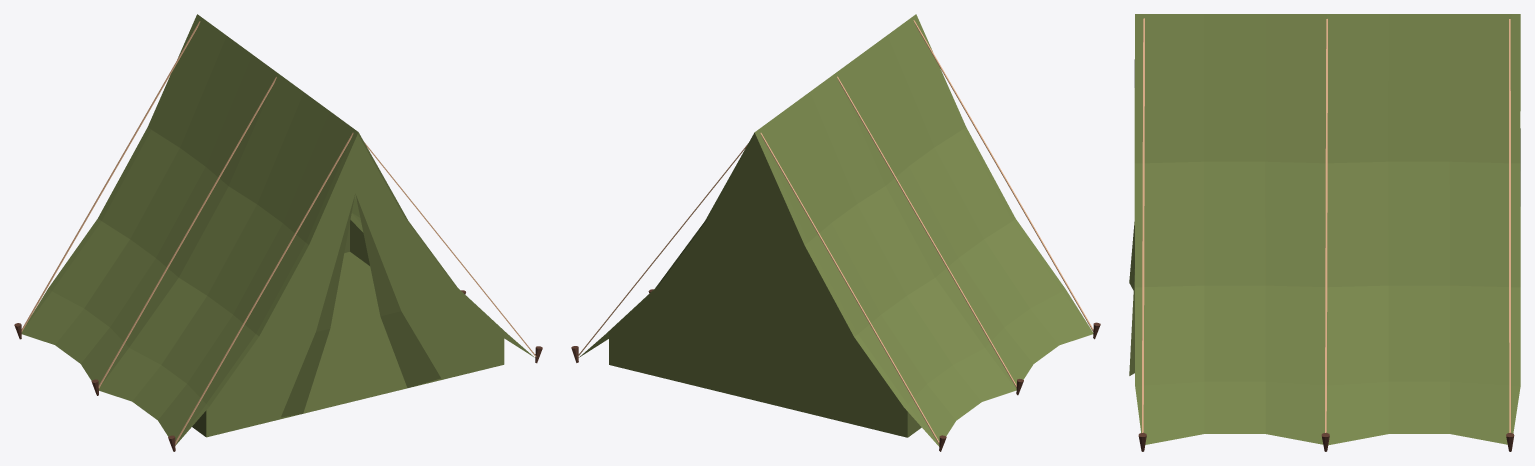
The model's file is Camping Tent.fbx.
3 renders of one model, left to right at view 1: azimuth 30°, elevation 25°; view 2: azimuth 150°, elevation 25°; view 3: azimuth 270°, elevation 25°, orthographic. The views are drawn at different scales.
Parts seen in each view (by area): view 1: Camping Tent; view 2: Camping Tent; view 3: Camping Tent.
Boxes of the visible parts, left/top/right/bottom form: Camping Tent: left=14, top=14, right=542, bottom=451; Camping Tent: left=571, top=14, right=1100, bottom=451; Camping Tent: left=1129, top=14, right=1520, bottom=451.
Size of the model in its own units: 399 by 283 by 303.
